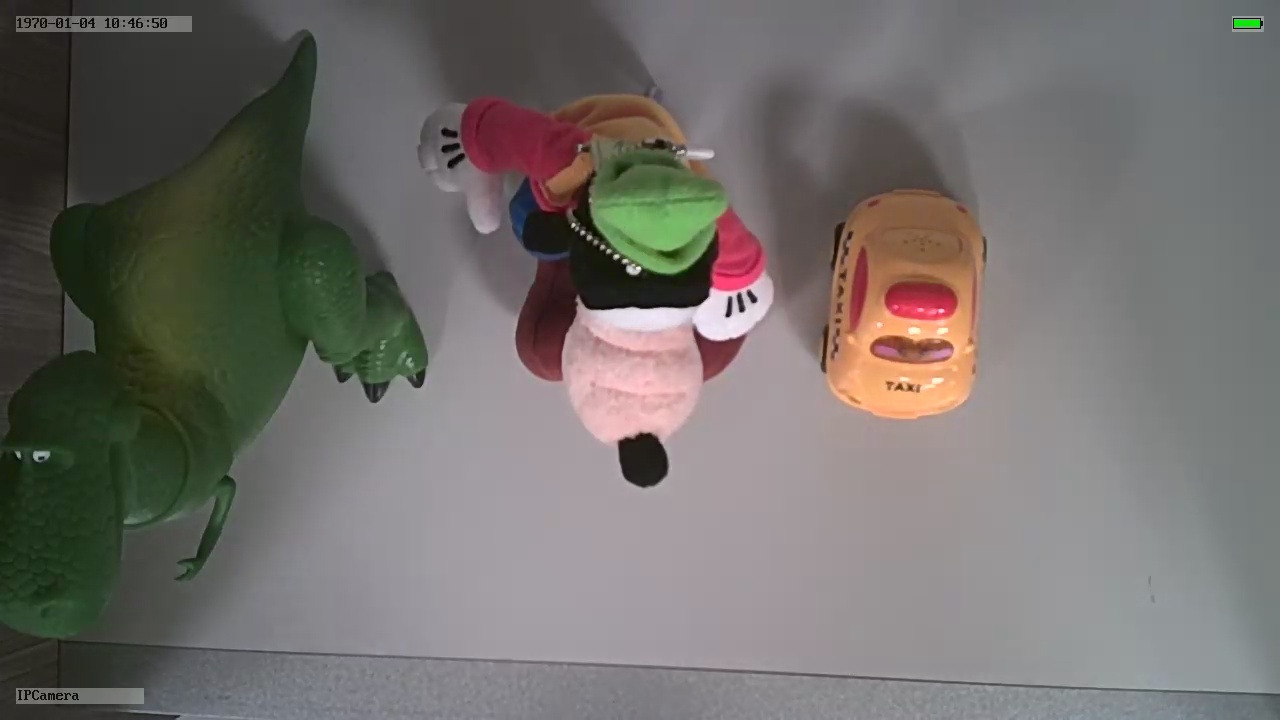car: (819, 181, 988, 423)
goofy: (415, 92, 775, 492)
rex: (1, 162, 427, 642)
